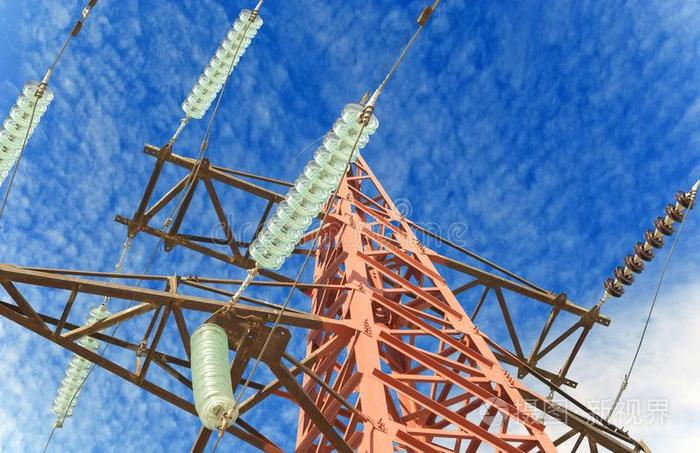insulator: (252, 102, 378, 267), (603, 190, 697, 295), (182, 9, 262, 120), (52, 309, 111, 423), (1, 79, 54, 185), (188, 325, 236, 428)
